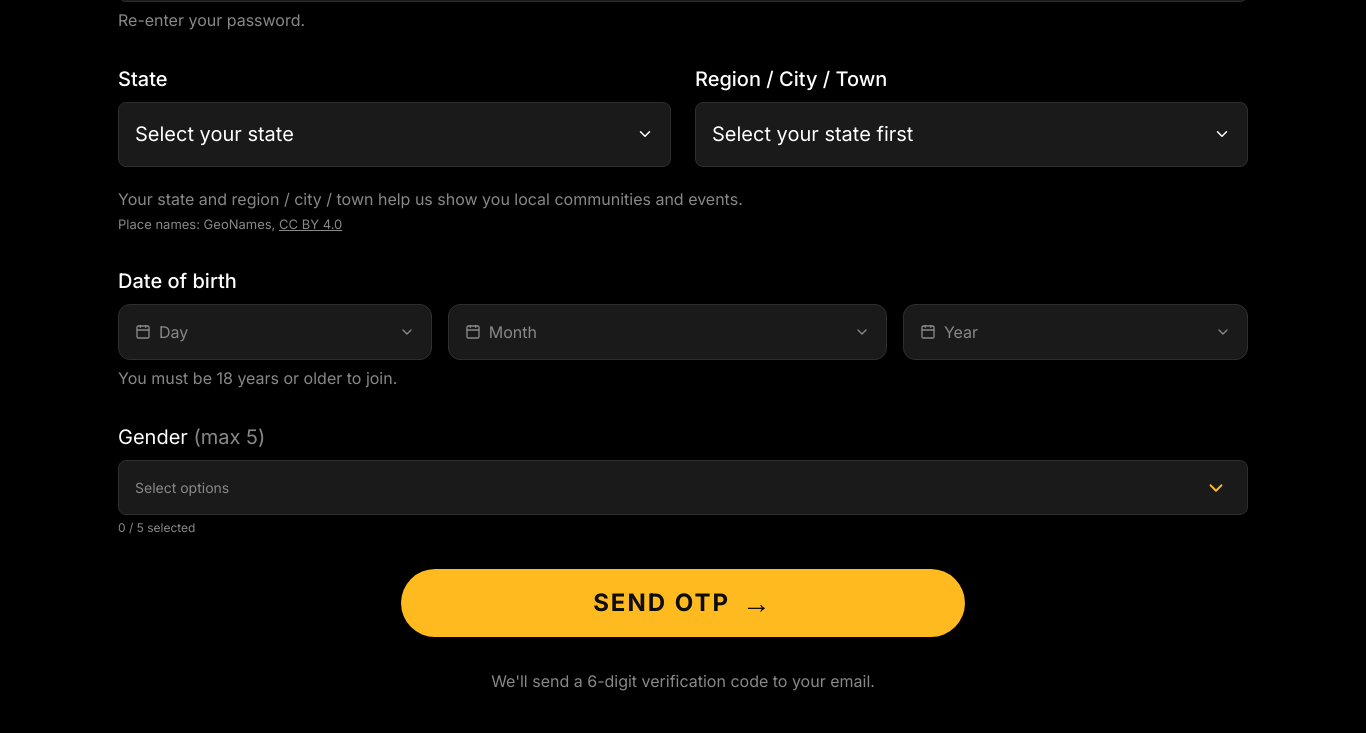
Test: offers only Male and Female in the Nigerian gender multi-select
(page scrolled)
Click the button named "Gender".
click(1216, 488)  # box [1193,469,1239,506]
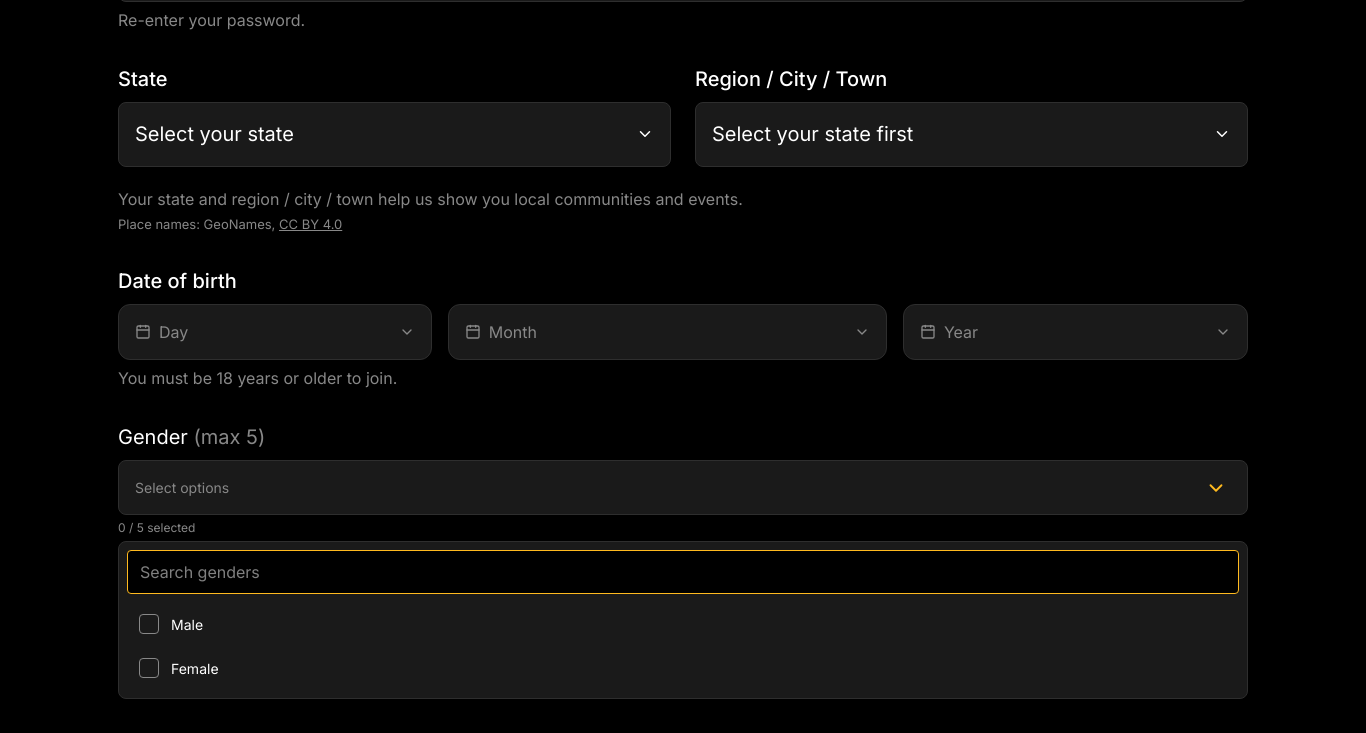
Result: the options read "Male", "Female", in this order
Click the option "Male".
click(187, 624)  # box [127,602,1239,646]
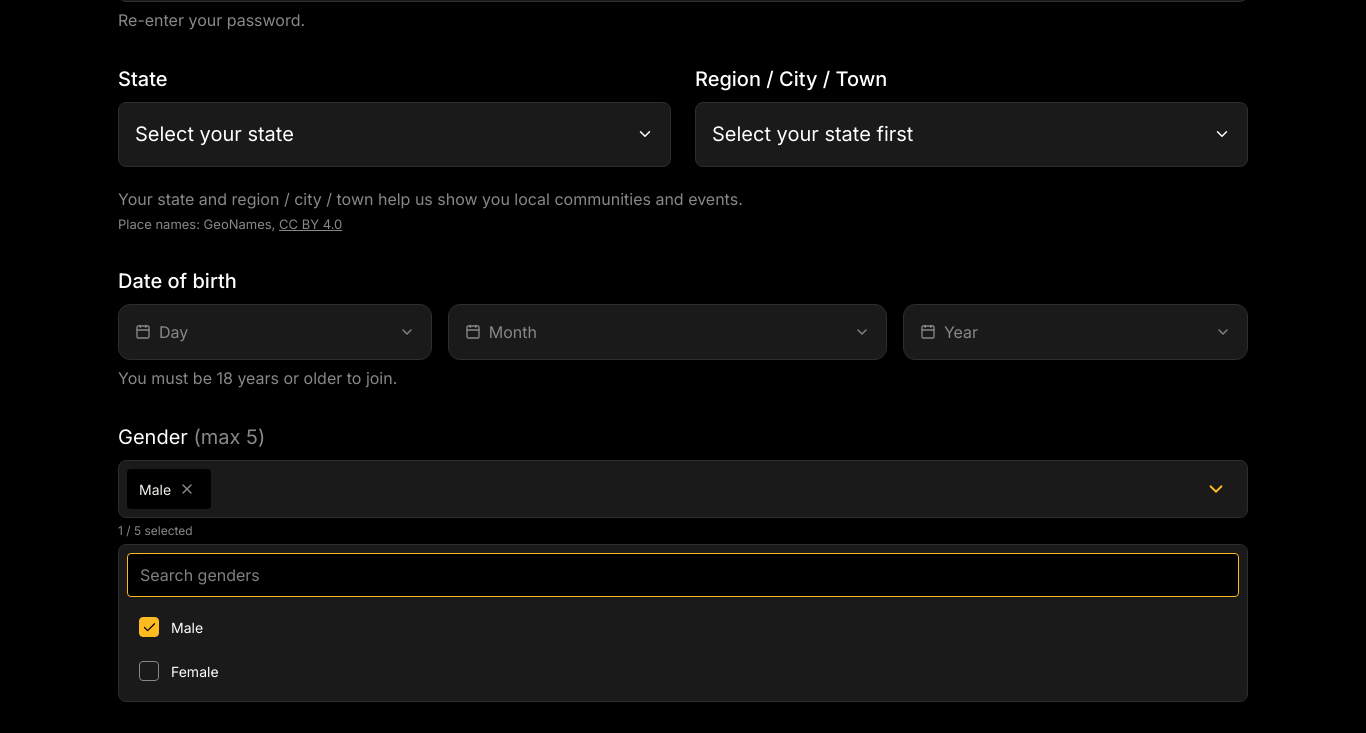
Click the option "Female".
click(195, 671)  # box [127,649,1239,693]
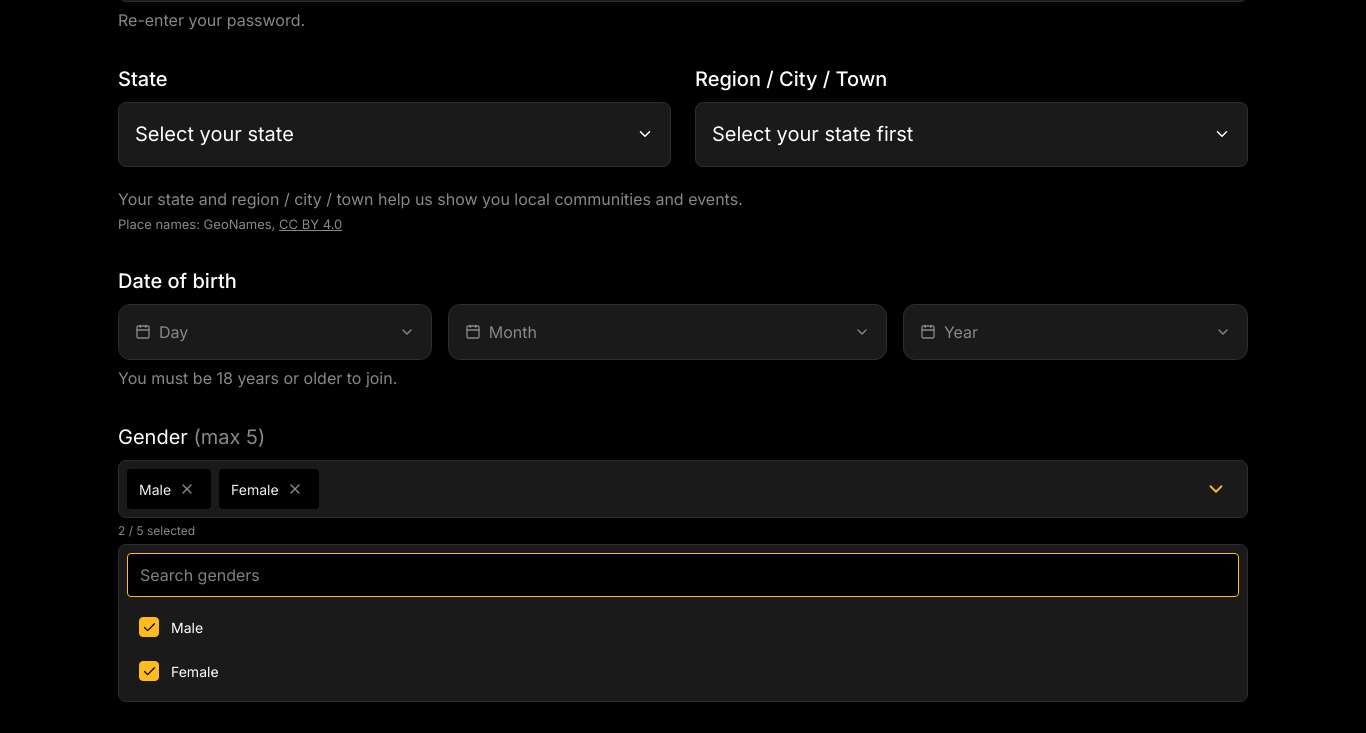
Result: the button named "Remove Male" is shown at [175,477,199,501]
Result: the button named "Remove Female" is shown at [283,477,307,501]
